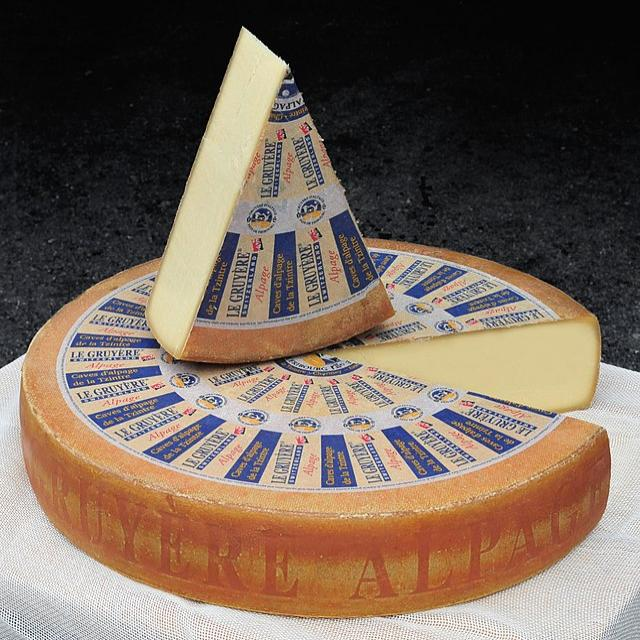Cheese: (8, 201, 640, 636), (154, 27, 394, 367)
